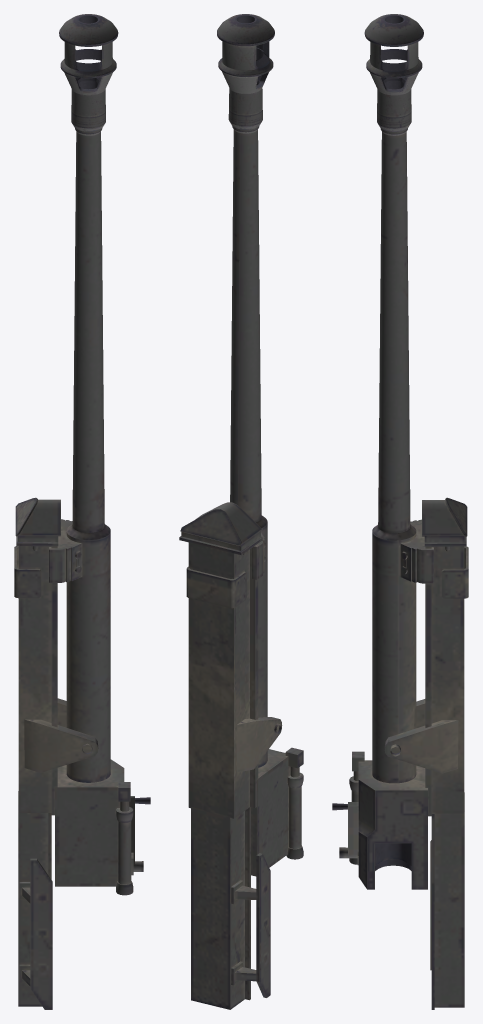
The model's file is Gun_03.glb.
3 views of the same model, side by side, from view 1: azimuth 90°, elevation 25°; view 2: azimuth 150°, elevation 25°; view 3: azimuth 270°, elevation 25° (orthographic).
Visible parts, largest first — view 1: set_0_group_0; view 2: set_0_group_0; view 3: set_0_group_0.
Boxes of the visible parts, x1,y1,x2,y2 form: set_0_group_0: [14, 14, 150, 1009]; set_0_group_0: [179, 14, 303, 1009]; set_0_group_0: [332, 14, 468, 1009].
Size of the model in its own units: 0.3717 by 4.3 by 0.544.
1 material, 1 textured.
